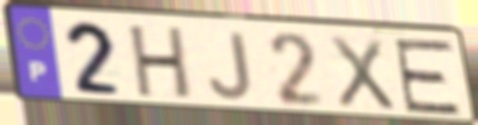2: (61, 18, 130, 100), (264, 30, 327, 110)
E: (390, 37, 465, 117)
H: (127, 24, 194, 102)
J: (206, 30, 256, 102)
X: (325, 32, 399, 113)
